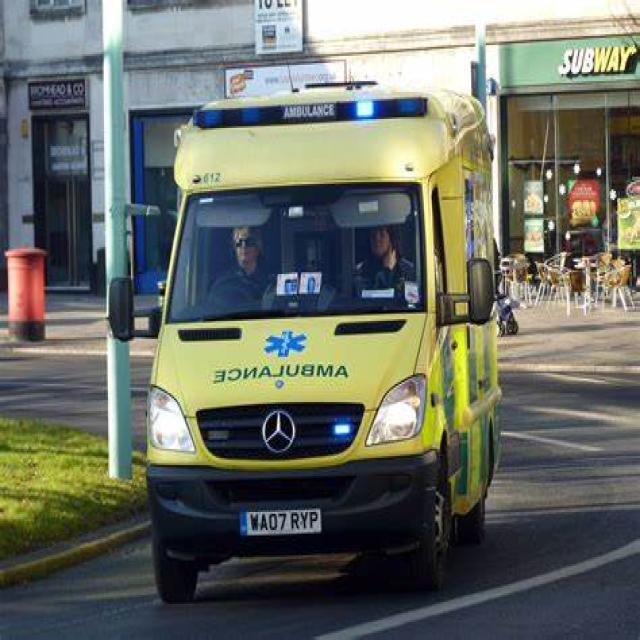ambulance: (186, 81, 423, 135)
